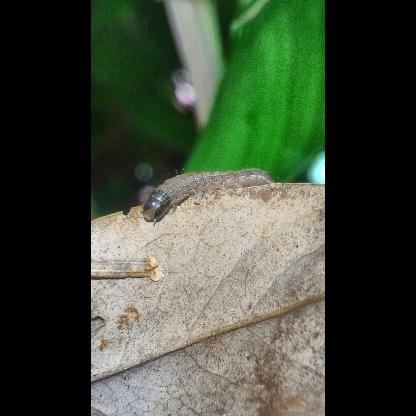Fall Armyworm Larvae: (139, 165, 283, 227)
